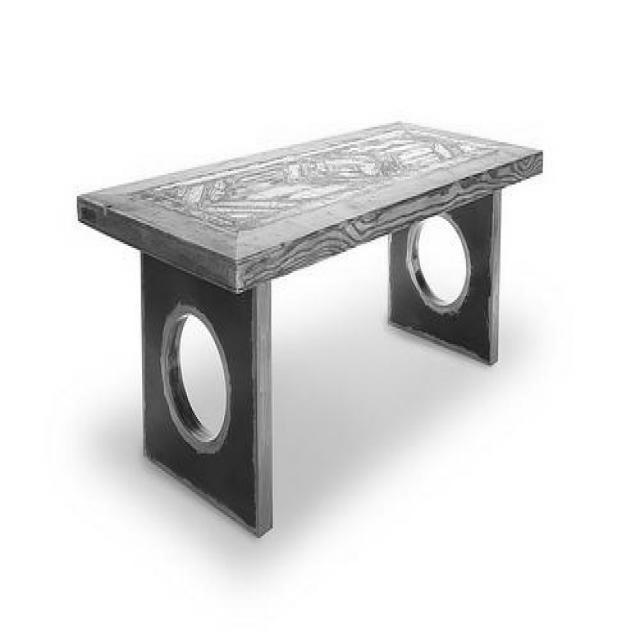table: (76, 118, 543, 537)
